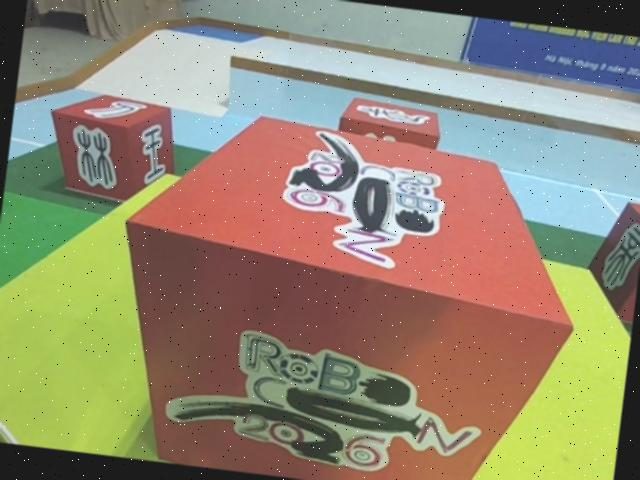R1: (95, 99, 596, 480)
R2 Fake: (43, 88, 184, 209), (581, 196, 640, 329)
